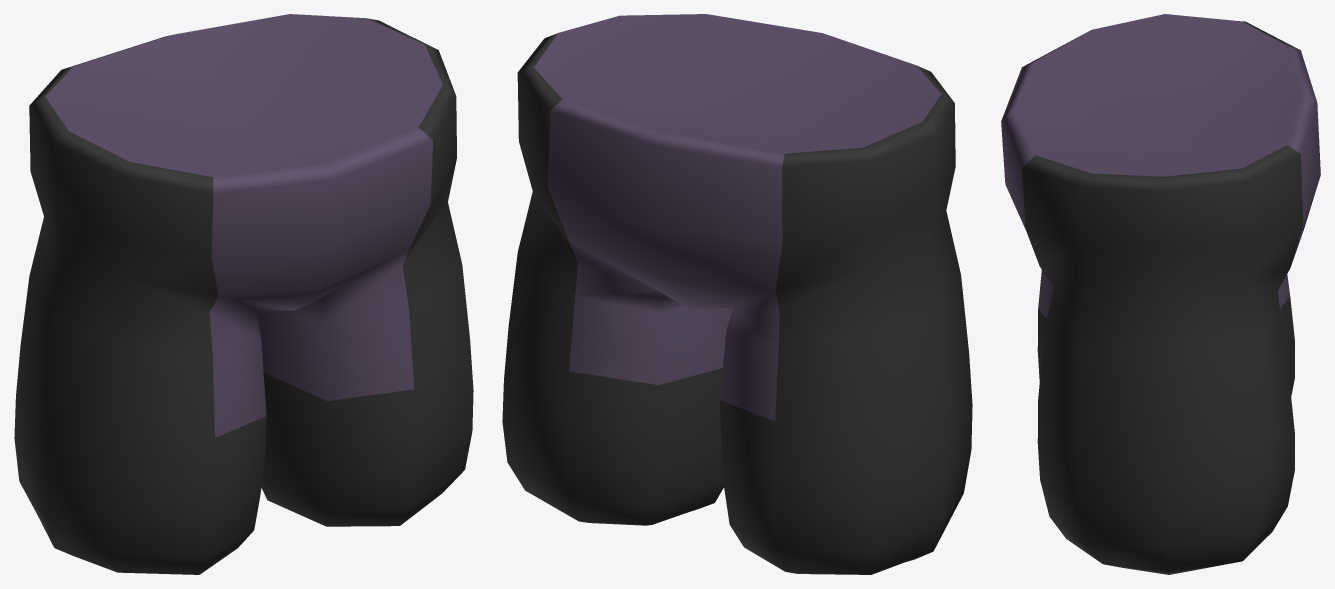
File: Bottom_24.fbx
3 views of the same model, side by side, from view 1: azimuth 30°, elevation 25°; view 2: azimuth 150°, elevation 25°; view 3: azimuth 270°, elevation 25° (orthographic). The views are drawn at different scales.
Visible parts, largest first — view 1: Bottom_24; view 2: Bottom_24; view 3: Bottom_24.
Part boxes in pixels (x1,y1,x2,y2): Bottom_24: (14,14,473,574); Bottom_24: (502,14,972,574); Bottom_24: (1001,14,1320,574).
Bounding box in the file's own units: 40.89 × 41.56 × 29.68.
